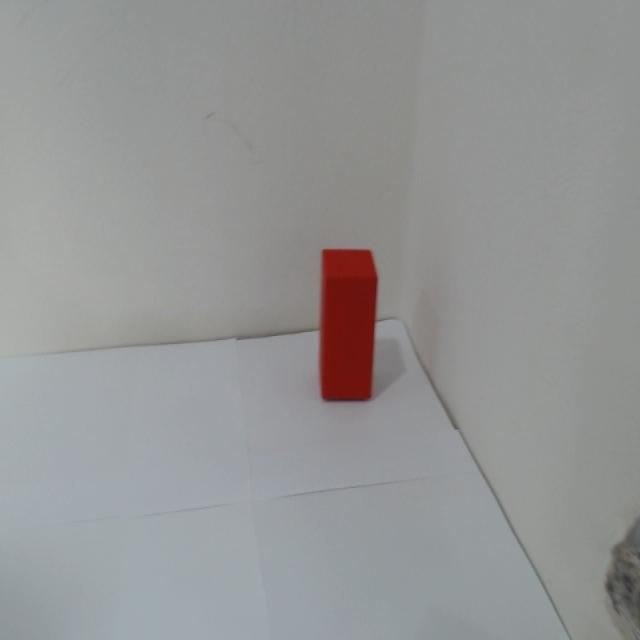cube: (315, 247, 379, 404)
